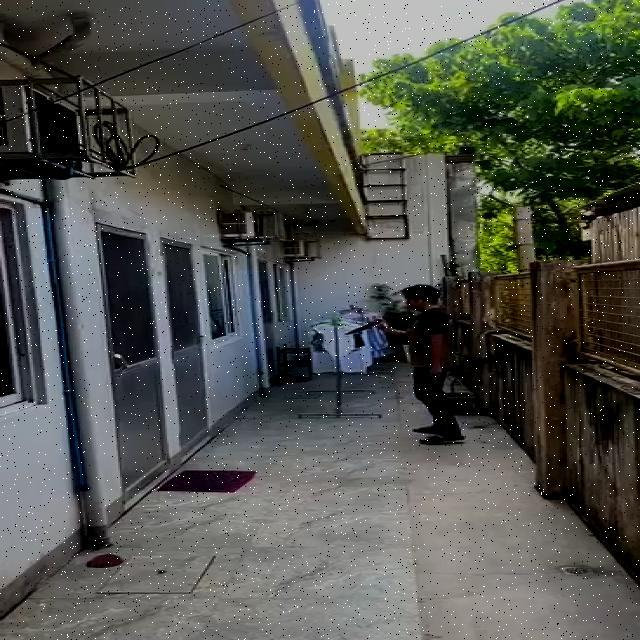knife: (346, 316, 384, 334)
non-violence: (346, 284, 468, 444)
